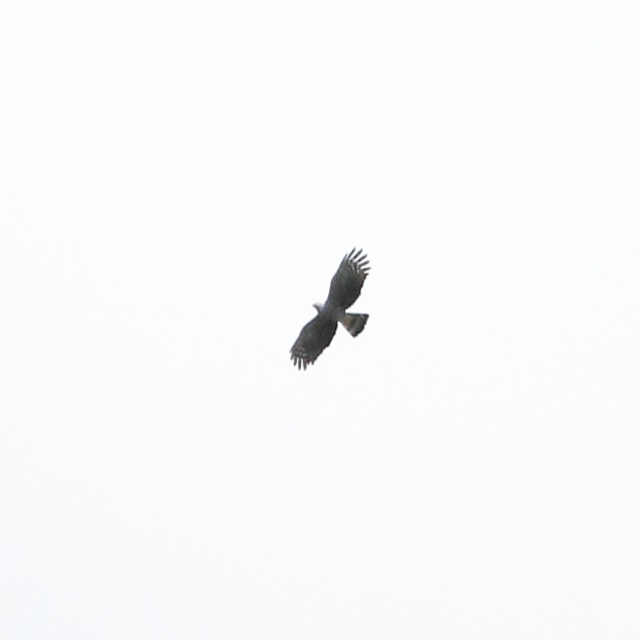Eagle: (290, 244, 373, 371)
